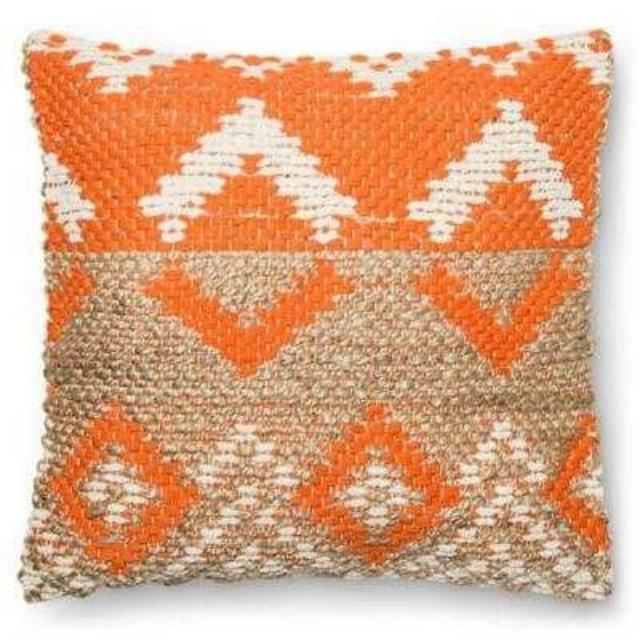pillow: (14, 24, 616, 604)
